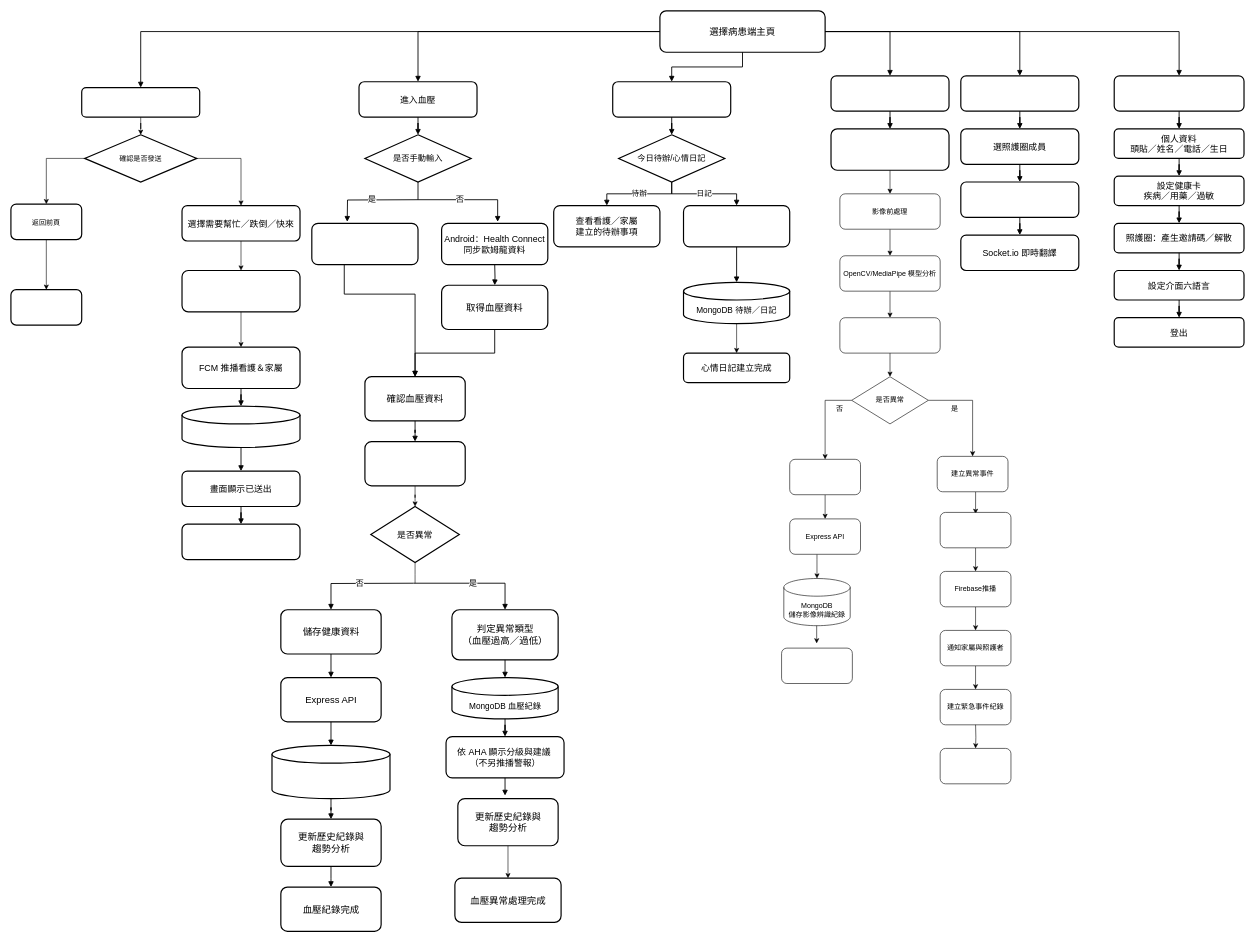
This 1254x942 diagram has some shape labels left out. Each missing label, with the centre of its shape:
"MongoDB 建立呼叫紀錄" goes at point 240,426.
"MongoDB 建立血壓紀錄" goes at point 330,772.
"Vision緊急事件處理完成" goes at point 975,766.
"儲存分析結果" goes at point 825,477.
"呼叫取消流程完成" goes at point 46,307.
"呼叫流程完成" goes at point 240,541.
"心情日記 選擇圖示＋文字紀錄" goes at point 736,226.
"按「呼叫」按鈕" goes at point 140,102.
"文字／語句庫／語音檔" goes at point 1019,199.
"查看看即時畫面" goes at point 889,149.
"檢驗數值" goes at point 415,463.
"發送SOS訊息 (家屬/照護者)" goes at point 240,291.
"發送緊急通知" goes at point 975,530.
"輸入收縮壓 SYS 舒張壓 DIA 脈搏 PULSE" goes at point 364,243.
"辨識流程完成" goes at point 816,666.
"辨識結果分類 (跌倒偵測/動作辨識/一般狀態)" goes at point 889,335.
"進入待辦" goes at point 671,99.
"進入監看" goes at point 889,93.
"進入訊息" goes at point 1019,93.
"進入設定" goes at point 1178,93.
